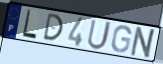4: (66, 16, 85, 48)
D: (42, 13, 65, 42)
G: (110, 25, 133, 54)
L: (21, 8, 38, 41)
N: (129, 25, 159, 60)
U: (86, 19, 113, 52)
